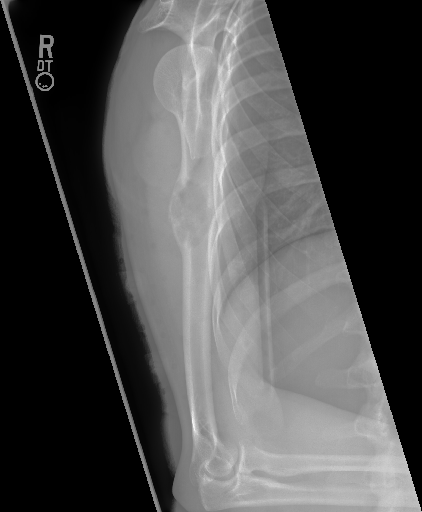fracture: (186, 429, 249, 501)
